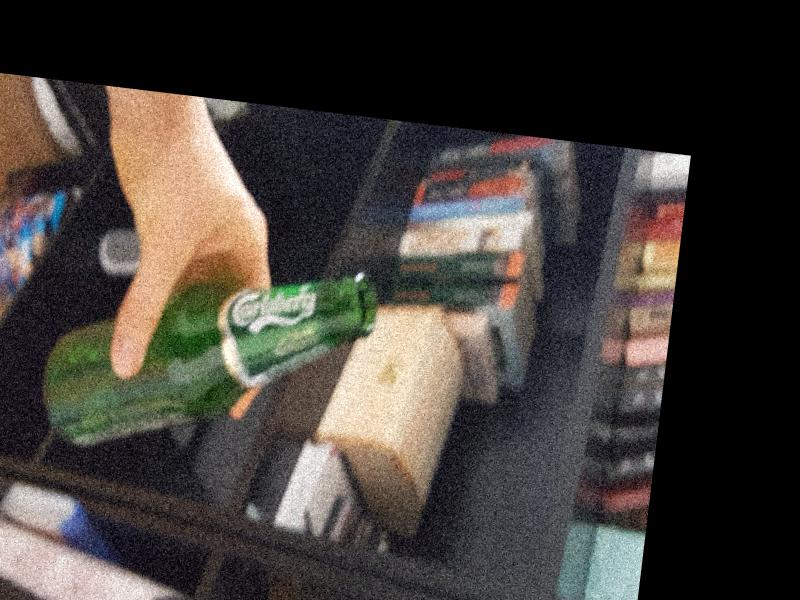Beer: (35, 240, 379, 484)
